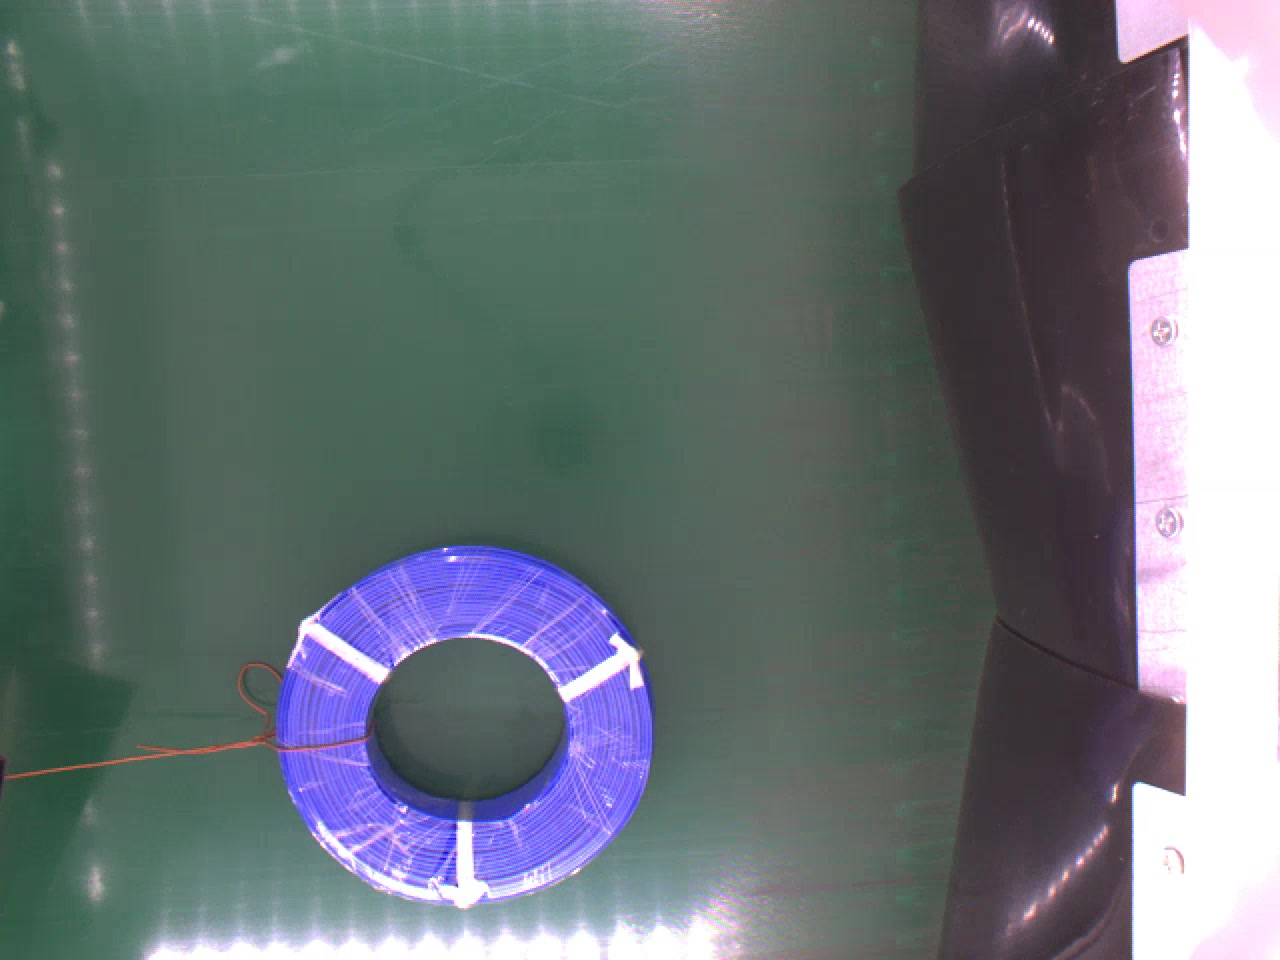blue: (276, 542, 653, 909)
